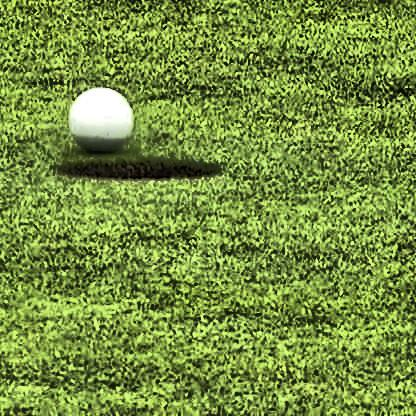golfball: (66, 85, 131, 150)
